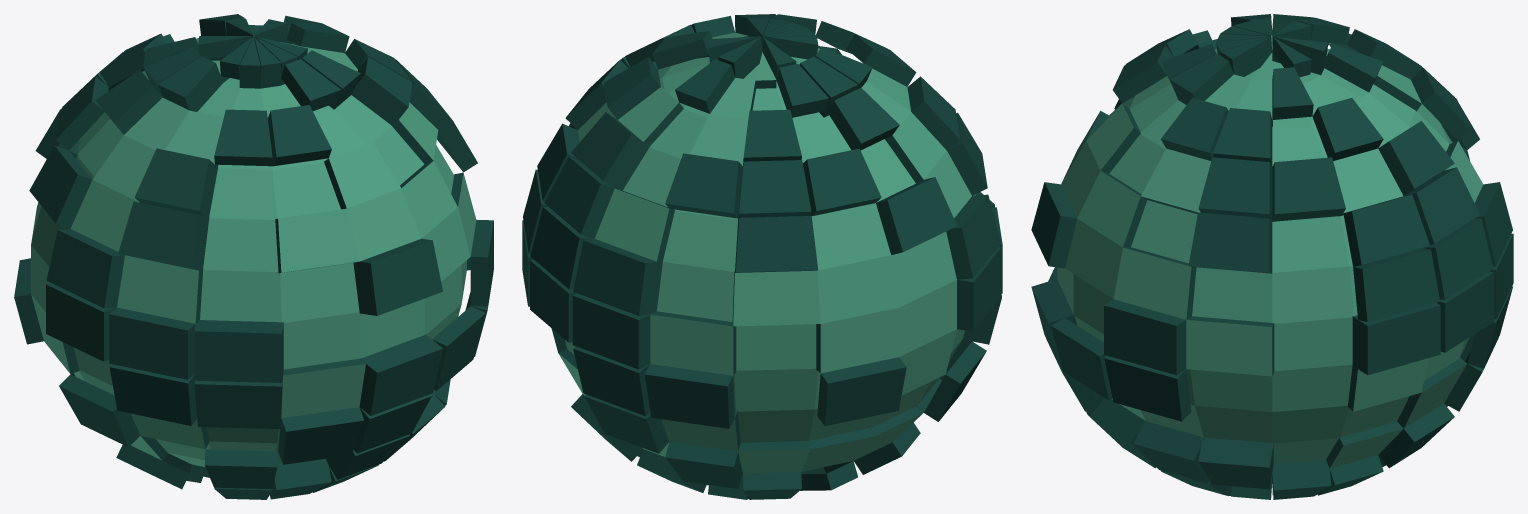
Rendered from Planet2.glb.
The picture shows the model from 3 angles, left to right: view 1: azimuth 30°, elevation 25°; view 2: azimuth 150°, elevation 25°; view 3: azimuth 270°, elevation 25°; orthographic projection.
Visible parts, largest first — view 1: Planet_02_fix; view 2: Planet_02_fix; view 3: Planet_02_fix.
Part boxes in pixels (bbox=[...]): Planet_02_fix: bbox=[14, 14, 493, 499]; Planet_02_fix: bbox=[522, 14, 1002, 499]; Planet_02_fix: bbox=[1031, 14, 1513, 499].
Size of the model in its own units: 3.13 by 3.26 by 3.23.
